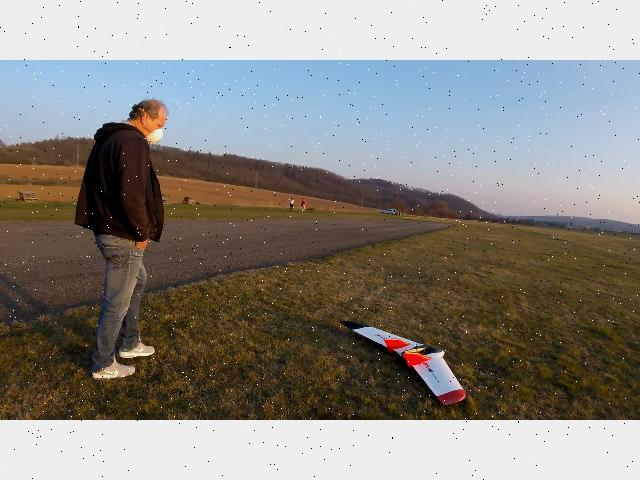Anti-Drone: (332, 296, 470, 418)
